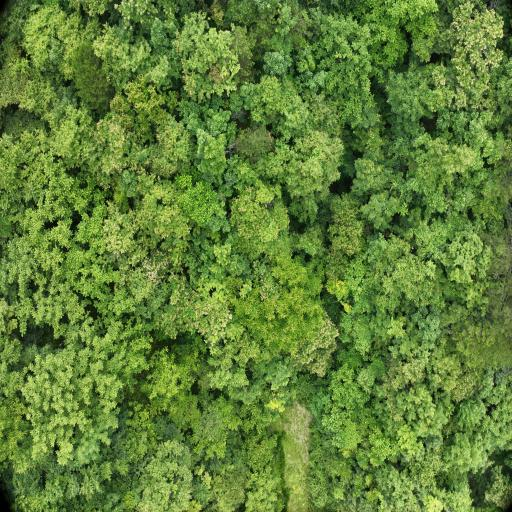dead-tree: (233, 112, 245, 122), (226, 148, 234, 156)
